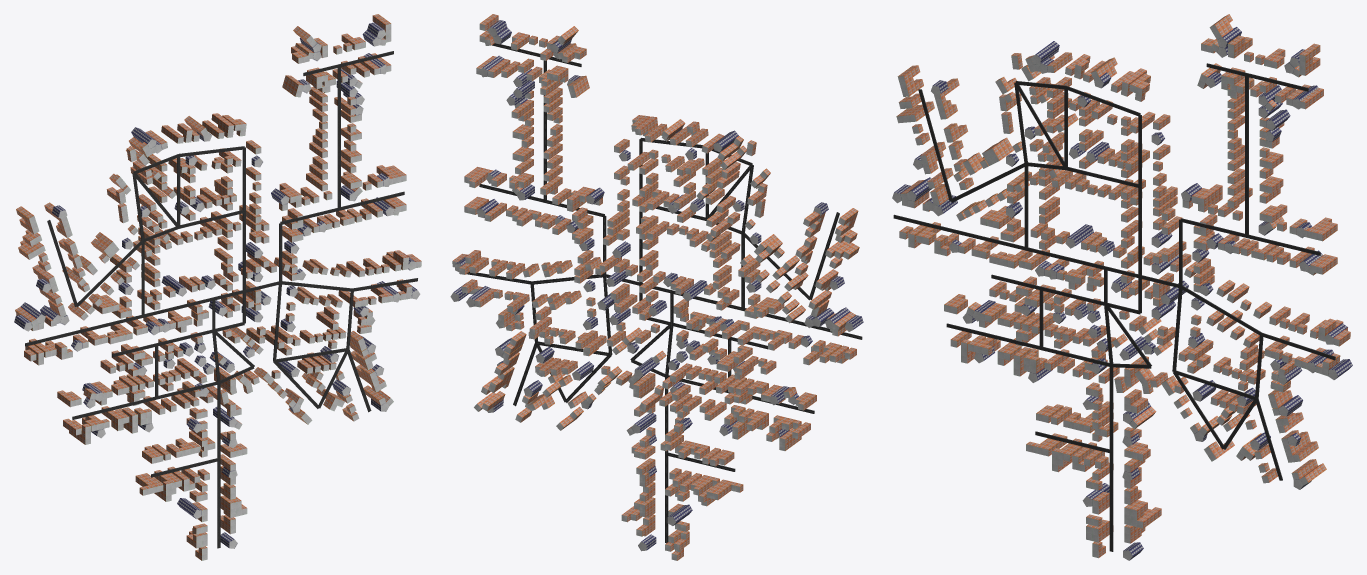
The model's file is City.fbx.
3 renders of one model, left to right at view 1: azimuth 30°, elevation 25°; view 2: azimuth 150°, elevation 25°; view 3: azimuth 330°, elevation 25°, orthographic. The views are drawn at different scales.
Bounding box in the file's own units: 1404 × 1683 × 101.
Materials: 70 (70 with a texture image).
